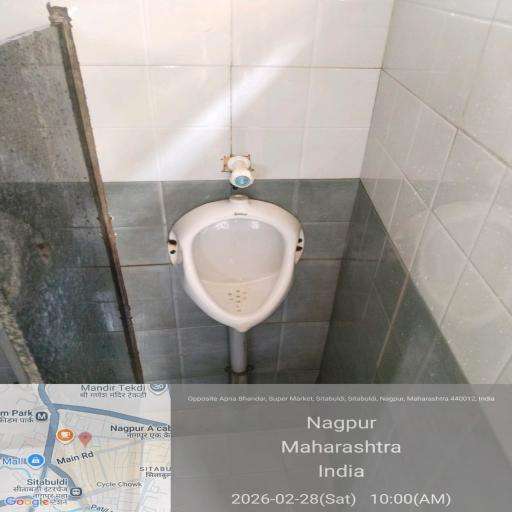clean_floor: (91, 41, 440, 179)
clean_urinal: (136, 191, 326, 340)
partial_dirty_floor: (0, 52, 190, 512)
